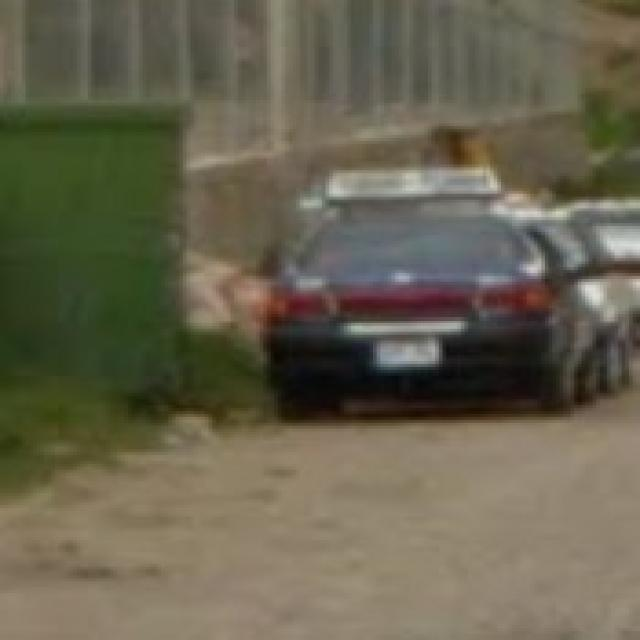cars: (257, 186, 608, 417)
